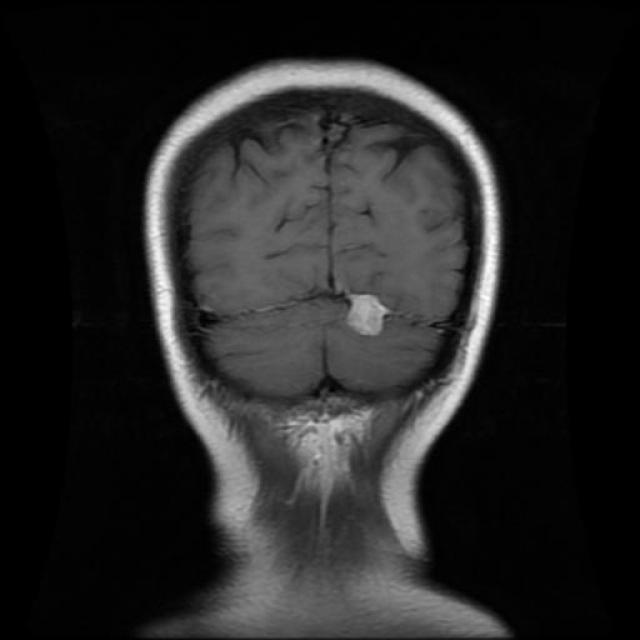meningioma: (348, 295, 392, 336)
